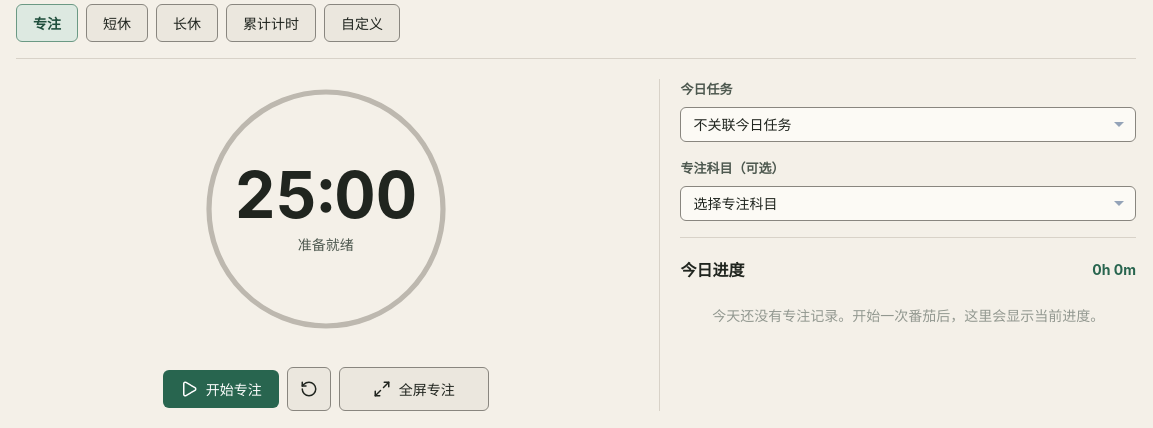
Test case: Pomodoro Component › can switch to break modes and time updates
This screenshot has width=1153, height=428.
Click the button with test id "pomodoro-mode-short_break" at (117, 23), box [86,4,148,42]
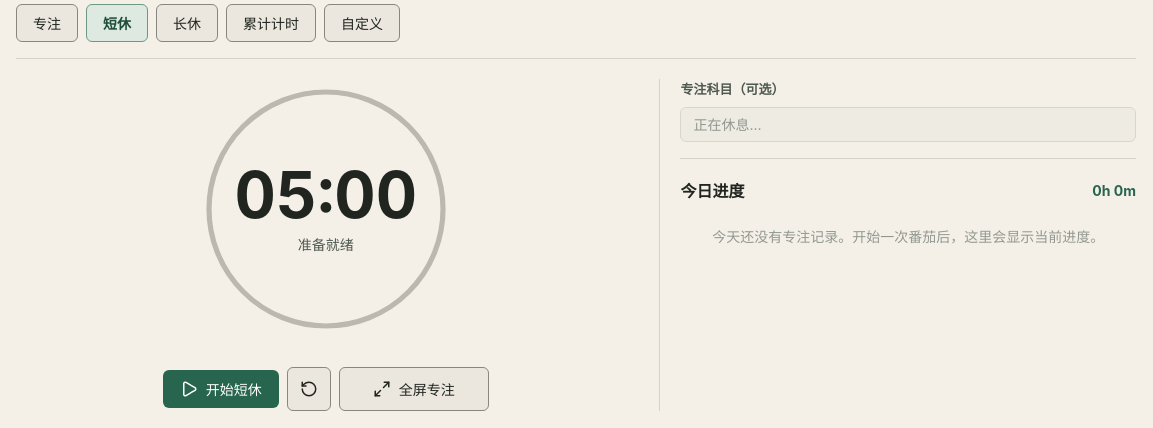
Expected: the text "05:00" is shown, [234,163,417,227]
Click the button with test id "pomodoro-mode-long_break" at (187, 23), box [156,4,218,42]
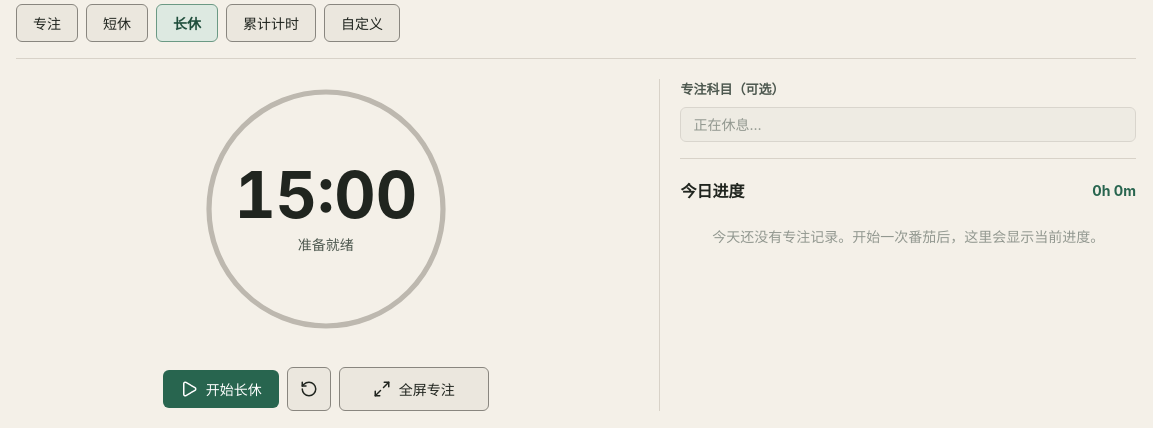
Expected: the text "15:00" is shown, [234,163,417,227]
